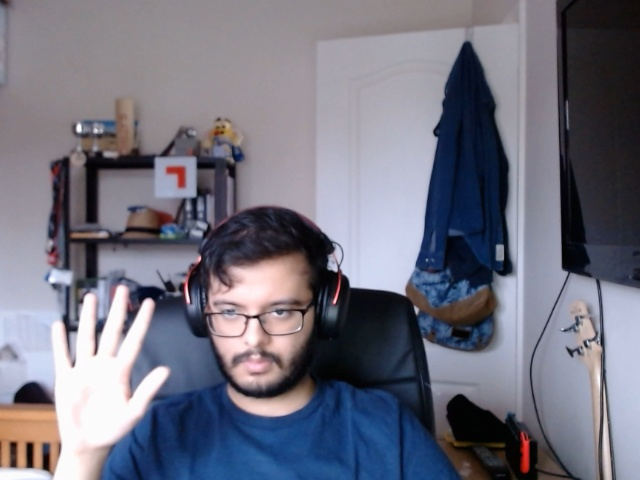Hello: (29, 278, 173, 452)
